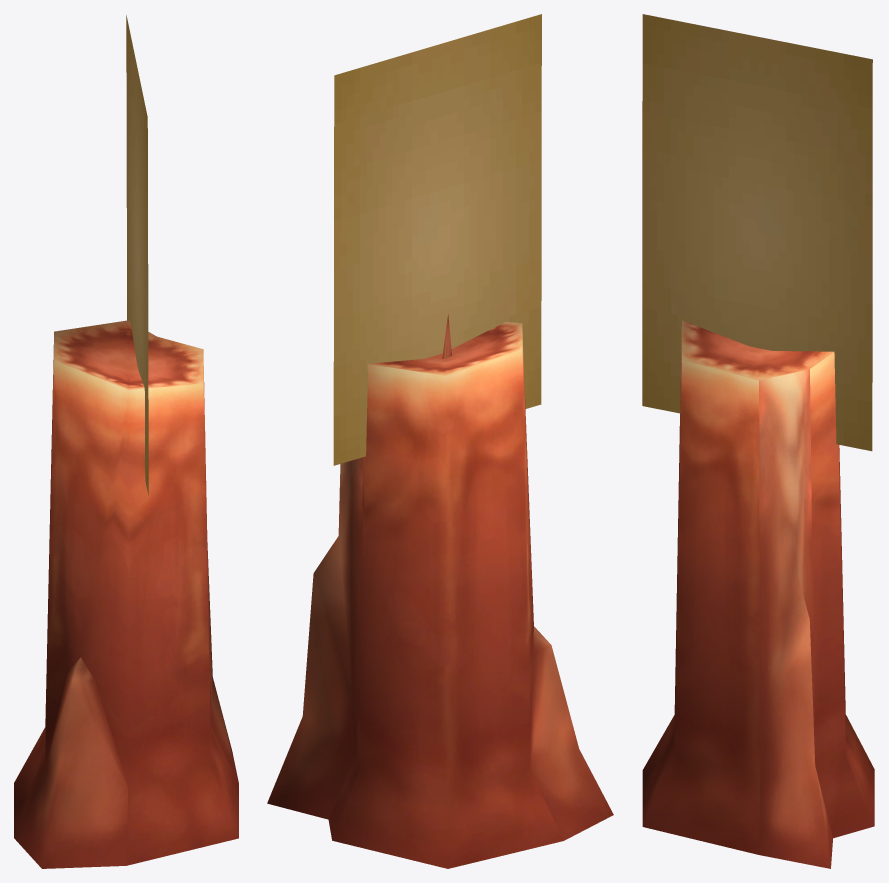
File: snobold_candle01.obj
3 views of the same model, side by side, from view 1: azimuth 30°, elevation 25°; view 2: azimuth 150°, elevation 25°; view 3: azimuth 270°, elevation 25° (orthographic). The views are drawn at different scales.
Parts seen in each view (by area): view 1: Geoset0, Geoset1; view 2: Geoset0, Geoset1; view 3: Geoset0, Geoset1.
Part boxes in pixels (box(x1,y1,x2,y2)): Geoset0: box(14, 320, 238, 868); Geoset1: box(126, 15, 148, 495); Geoset0: box(267, 314, 613, 868); Geoset1: box(333, 14, 541, 465); Geoset0: box(642, 320, 874, 868); Geoset1: box(642, 14, 872, 451).
Bounding box in the file's own units: 0.1921 × 0.5176 × 0.1423.
Materials: 2 (2 with a texture image).
